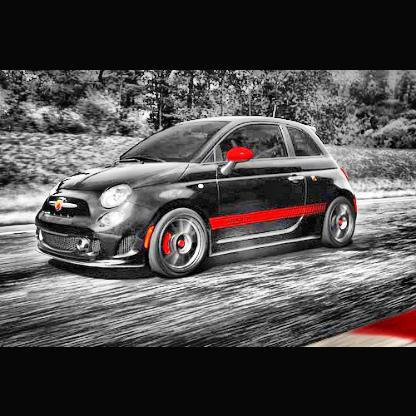FIAT 500 Abarth 2012: (36, 105, 359, 278)
